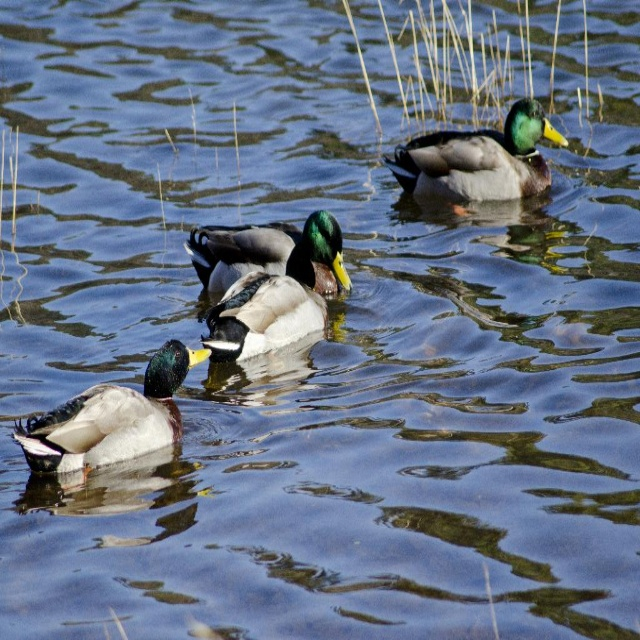Duck: (12, 335, 194, 485), (379, 97, 574, 235), (202, 239, 344, 354), (180, 208, 369, 289)
